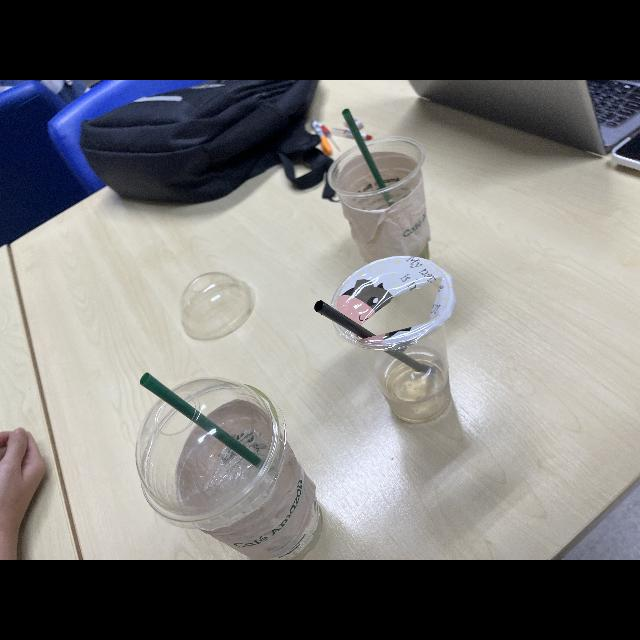plastic_cup: (130, 384, 330, 560), (326, 254, 466, 426), (328, 136, 438, 268)
plastic_cup_lid: (107, 373, 286, 511), (166, 268, 266, 350)
straw: (132, 369, 272, 466), (306, 297, 436, 383), (329, 105, 401, 201)
